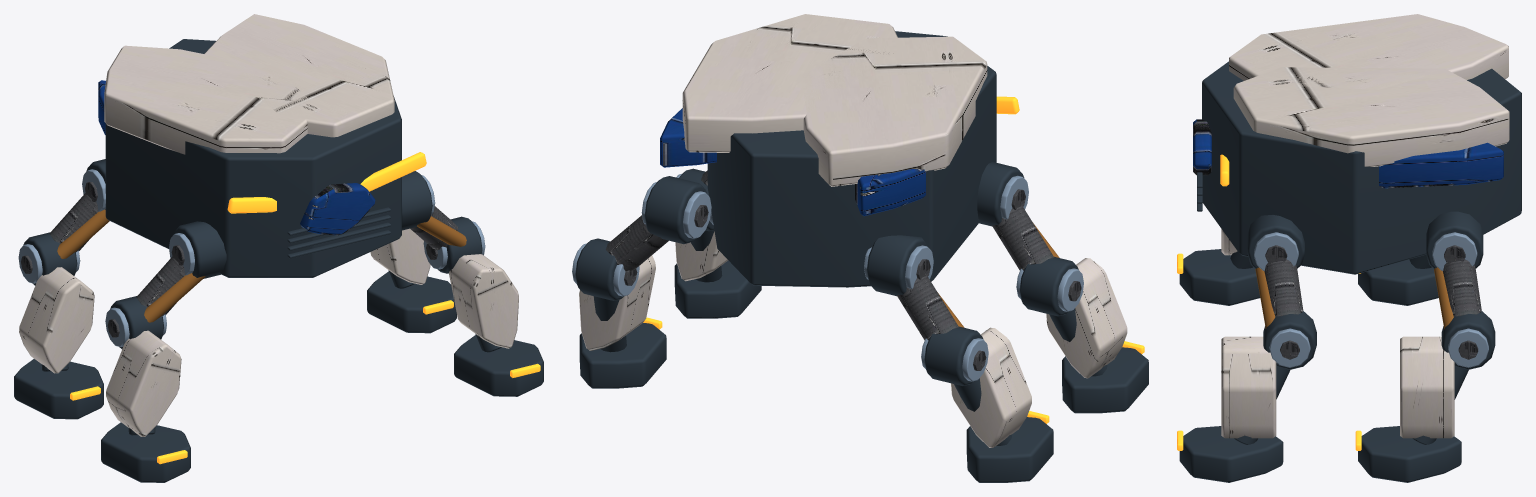
Rendered from quad.glb.
3 views of the same model, side by side, from view 1: azimuth 30°, elevation 25°; view 2: azimuth 150°, elevation 25°; view 3: azimuth 270°, elevation 25° (orthographic). The views are drawn at different scales.
Visible parts, largest first — view 1: Sloped crawler body, Layered beetle carapace, Servo housing.002, Servo housing.006, Swept crawler greave, Swept crawler greave.001, Servo housing, Swept crawler greave.003, Servo housing.004, Swept cobalt shell, Swept crawler greave.002, Crawler eye (+9 smaller); view 2: Layered beetle carapace, Sloped crawler body, Servo housing, Servo housing.004, Servo housing.002, Swept crawler greave.001, Swept crawler greave, Servo housing.006, Swept cobalt shell, Swept crawler greave.002, Hub.004, Hub (+5 smaller); view 3: Layered beetle carapace, Sloped crawler body, Servo housing.004, Servo housing.006, Swept crawler greave.003, Swept crawler greave.002, Swept cobalt shell, Servo housing.002, Servo housing, Hub.012, Hub.008, Bearing ring.012 (+3 smaller).
Boxes of the visible parts, x1,y1,x2,y2 form: Sloped crawler body: [105, 39, 401, 277]; Layered beetle carapace: [104, 14, 394, 154]; Servo housing.002: [101, 221, 226, 482]; Servo housing.006: [402, 171, 543, 396]; Swept crawler greave: [19, 267, 94, 373]; Swept crawler greave.001: [106, 330, 181, 436]; Servo housing: [14, 159, 105, 419]; Swept crawler greave.003: [449, 254, 518, 348]; Servo housing.004: [367, 270, 456, 333]; Swept cobalt shell: [98, 80, 375, 235]; Swept crawler greave.002: [370, 228, 430, 284]; Crawler eye: [227, 152, 426, 213]; Layered beetle carapace: [682, 14, 987, 186]; Sloped crawler body: [707, 31, 996, 287]; Servo housing: [866, 235, 1053, 482]; Servo housing.004: [575, 176, 706, 388]; Servo housing.002: [977, 162, 1148, 413]; Swept crawler greave.001: [1046, 258, 1127, 378]; Swept crawler greave: [951, 327, 1031, 447]; Servo housing.006: [674, 168, 761, 318]; Swept cobalt shell: [660, 108, 925, 216]; Swept crawler greave.002: [579, 255, 655, 350]; Hub.004: [992, 189, 1081, 301]; Hub: [897, 259, 986, 370]; Layered beetle carapace: [1229, 14, 1509, 166]; Sloped crawler body: [1197, 61, 1521, 274]; Servo housing.004: [1358, 211, 1495, 482]; Servo housing.006: [1179, 215, 1316, 482]; Swept crawler greave.003: [1221, 336, 1276, 438]; Swept crawler greave.002: [1400, 336, 1454, 438]; Swept cobalt shell: [1193, 119, 1503, 188]; Servo housing.002: [1179, 249, 1260, 305]; Servo housing: [1358, 255, 1438, 305]; Hub.012: [1264, 245, 1303, 359]; Hub.008: [1443, 245, 1481, 359]; Bearing ring.012: [1254, 232, 1310, 367].
Size of the model in its own units: 1.46 by 0.9675 by 1.
7 materials, 3 textured.
